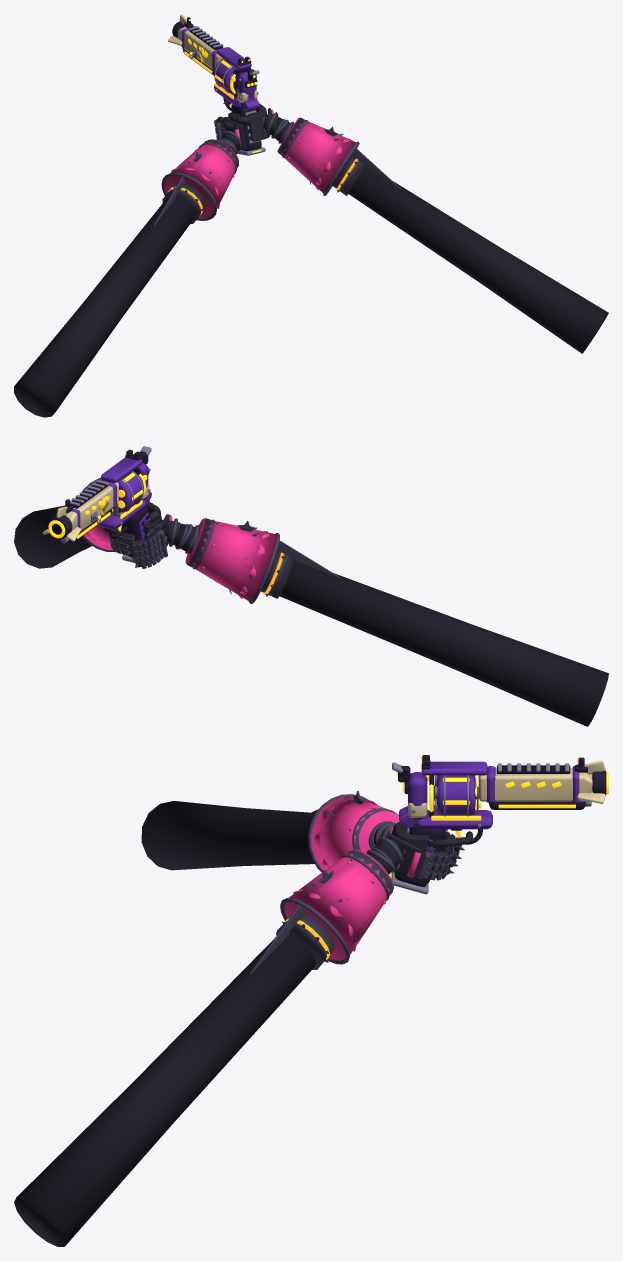
File: comet_cannon.glb
The picture shows the model from 3 angles, top to bottom: view 1: azimuth 30°, elevation 25°; view 2: azimuth 150°, elevation 25°; view 3: azimuth 270°, elevation 25°; orthographic projection. The views are drawn at different scales.
Visible parts, largest first — view 1: ArmR, ArmL, Shell, ArmRKitBell, ArmLKitBell; view 2: ArmL, ArmLKitBell, Shell, ArmR, ArmLKitGauntlet, Cylinder, ArmRKitBell, ArmLKitFins, ArmLKitWraps; view 3: ArmR, ArmL, Shell, ArmRKitBell, ArmLKitBell, Cylinder, ArmRKitGauntlet, ArmRKitMitten.
Part boxes in pixels (<box>): ArmR: <box>226,100,608,353</box>; ArmL: <box>14,116,246,417</box>; Shell: <box>168,14,265,155</box>; ArmRKitBell: <box>277,117,359,195</box>; ArmLKitBell: <box>161,139,238,220</box>; ArmL: <box>127,516,608,726</box>; ArmLKitBell: <box>185,518,279,603</box>; Shell: <box>42,457,151,563</box>; ArmR: <box>14,502,160,568</box>; ArmLKitGauntlet: <box>132,518,221,569</box>; Cylinder: <box>112,471,143,513</box>; ArmRKitBell: <box>82,478,149,552</box>; ArmLKitFins: <box>164,533,340,577</box>; ArmLKitWraps: <box>159,518,199,557</box>; ArmR: <box>14,821,473,1246</box>; ArmL: <box>141,801,460,874</box>; Shell: <box>390,760,608,894</box>; ArmRKitBell: <box>280,849,393,964</box>; ArmLKitBell: <box>308,790,399,872</box>; Cylinder: <box>434,775,478,816</box>; ArmRKitGauntlet: <box>346,834,453,904</box>; ArmRKitMitten: <box>388,834,421,878</box>.
Bounding box in the file's own units: 2.27 × 0.9846 × 1.54.
